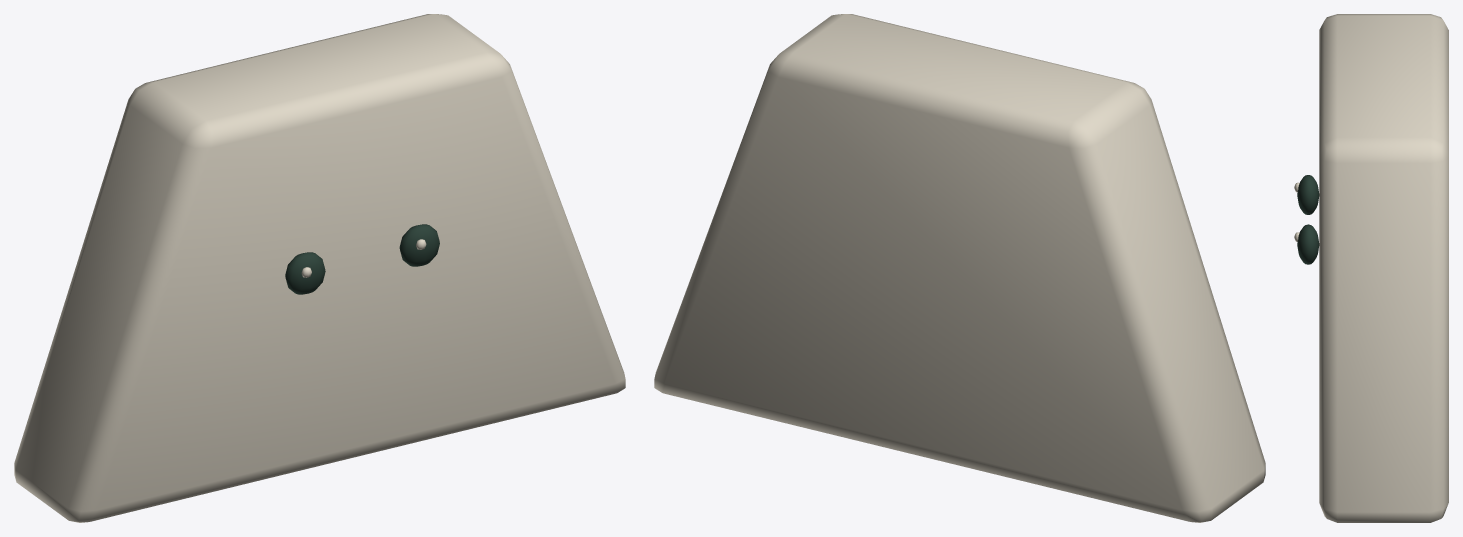
File: shape_trapezoid.glb
3 views of the same model, side by side, from view 1: azimuth 30°, elevation 25°; view 2: azimuth 150°, elevation 25°; view 3: azimuth 270°, elevation 25° (orthographic). The views are drawn at different scales.
Visible parts, largest first — view 1: color_body, body; view 2: color_body; view 3: color_body, body.
Boxes of the visible parts, x1,y1,x2,y2 form: color_body: (14,14,625,522); body: (285,224,439,294); color_body: (654,14,1265,522); color_body: (1319,14,1448,522); body: (1294,175,1319,264).
Size of the model in its own units: 1.41 by 0.9 by 0.382.
